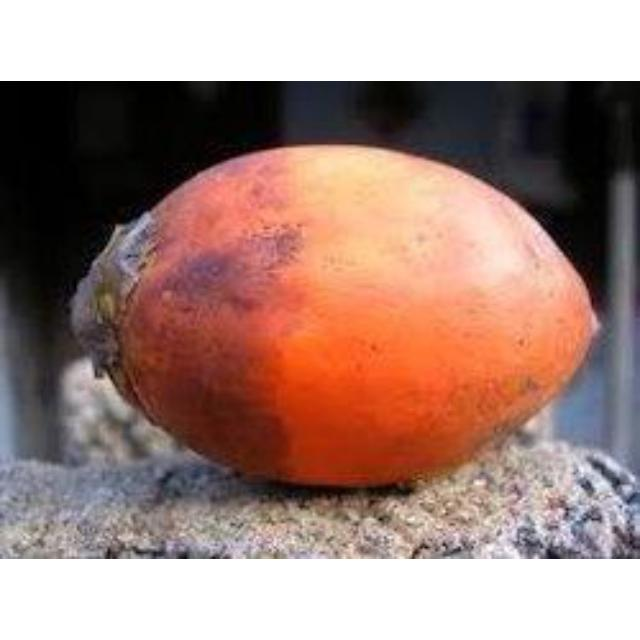good: (72, 142, 602, 493)
